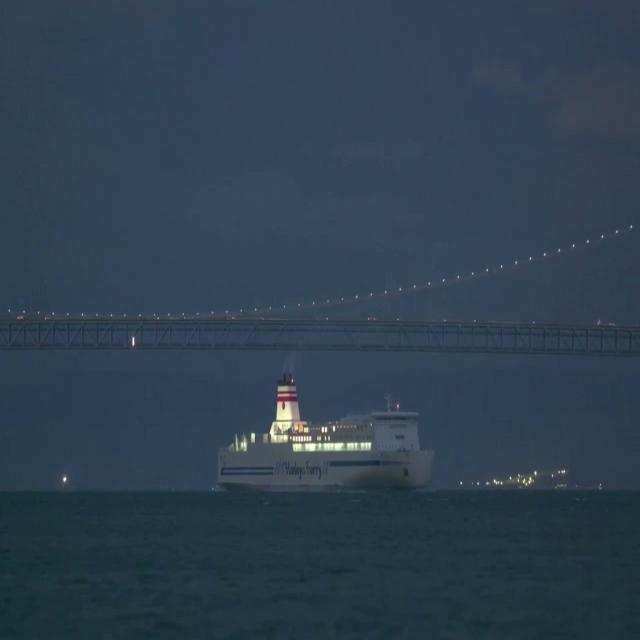OCR: (280, 460, 322, 480)
